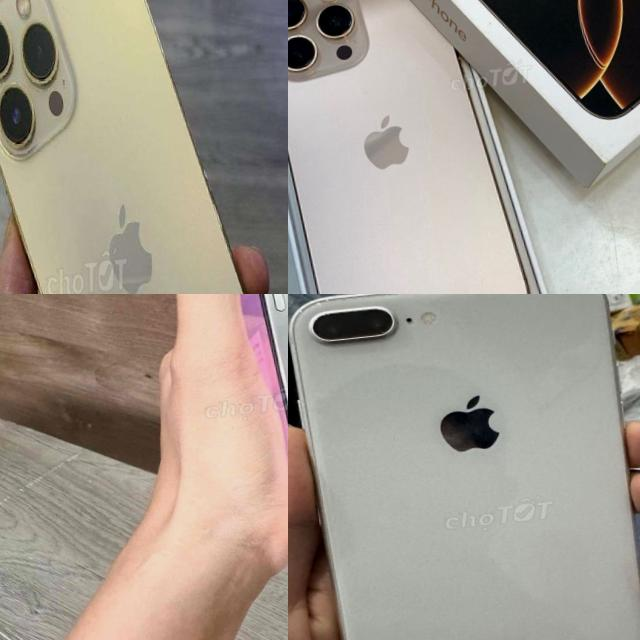gen_12_13: (0, 0, 288, 294)
gen_15: (205, 294, 288, 562)
gen_16: (288, 0, 551, 294)
gen_7_8: (288, 294, 640, 640)
scratch: (288, 294, 488, 311), (306, 309, 343, 321)
